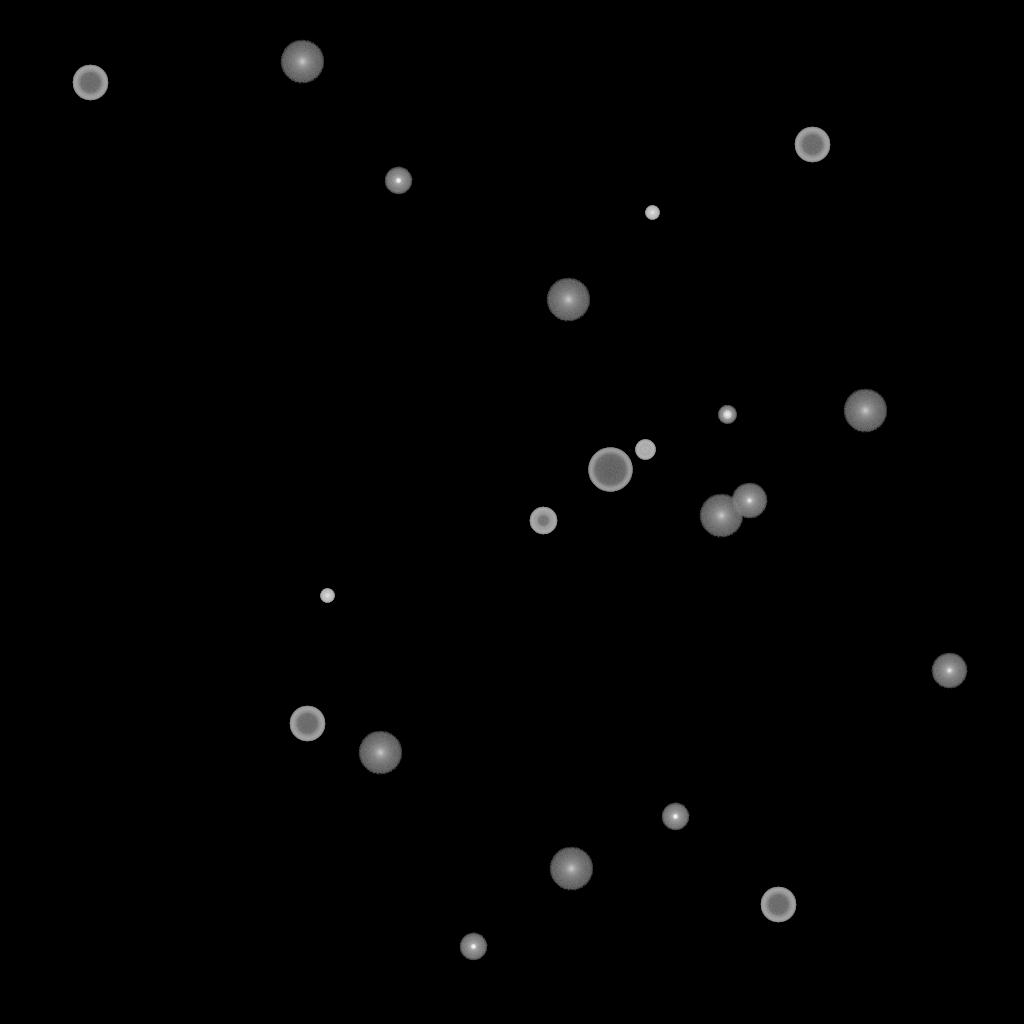depth:-10: (661, 803, 689, 831), (459, 933, 487, 961), (384, 167, 412, 195)
depth:-20: (718, 406, 736, 424)
depth:-30: (645, 206, 659, 220), (320, 589, 334, 603)
depth:-40: (635, 440, 655, 460)
depth:-50: (529, 507, 557, 535)
depth:-60: (760, 887, 796, 923), (289, 706, 325, 742), (794, 127, 830, 163), (72, 65, 108, 101)
depth:-70: (588, 448, 632, 492)
depth:0: (931, 653, 967, 689), (731, 483, 767, 519)
depth:10: (358, 731, 402, 775), (546, 278, 590, 322), (699, 494, 743, 538), (280, 40, 324, 84), (843, 389, 887, 433), (549, 847, 593, 891)
